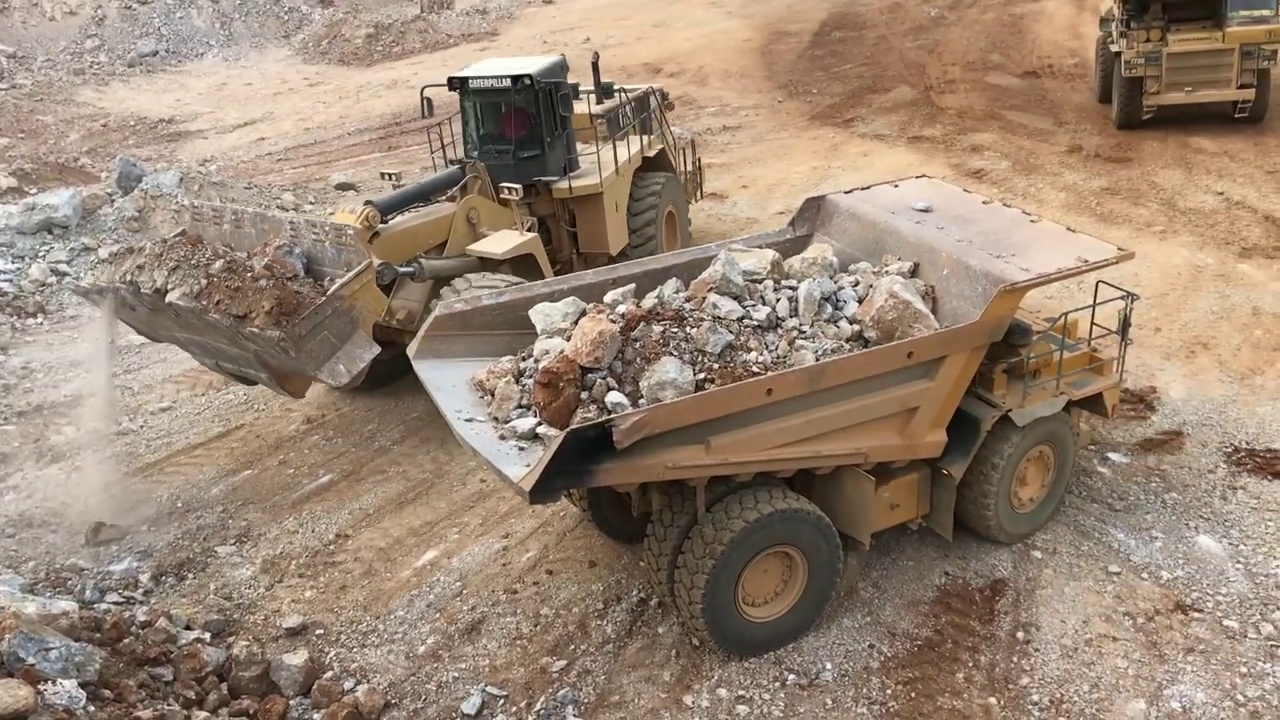dumper: (405, 173, 1142, 662)
wheel loader: (72, 55, 718, 398)
